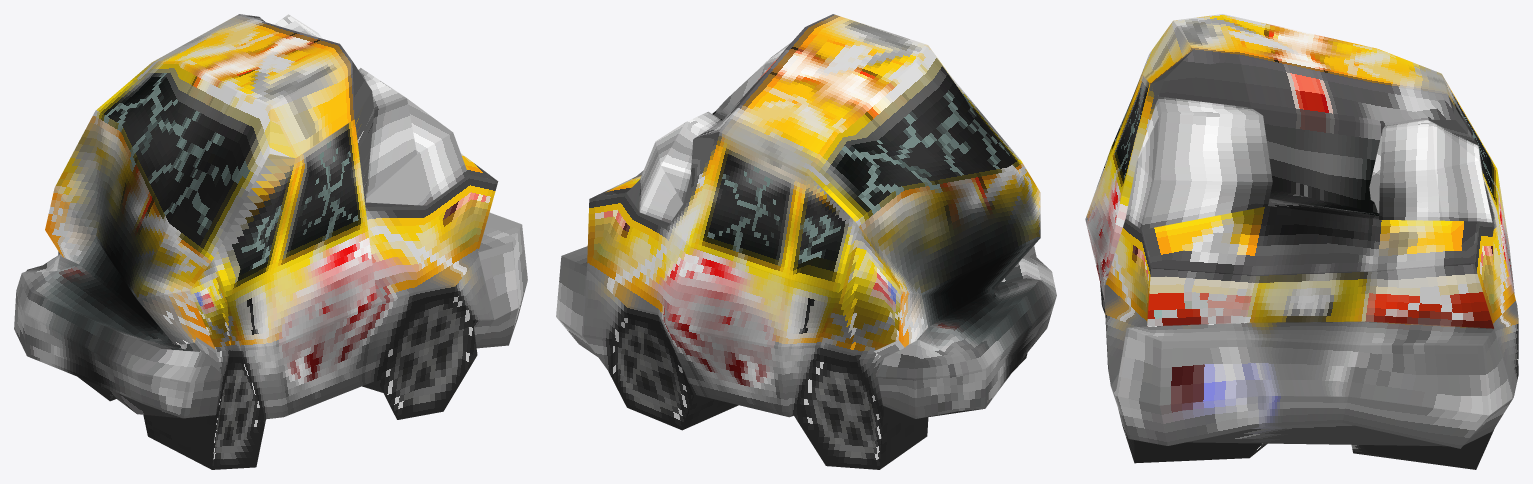
The model's file is car_scuffed.glb.
3 renders of one model, left to right at view 1: azimuth 30°, elevation 25°; view 2: azimuth 150°, elevation 25°; view 3: azimuth 270°, elevation 25°, orthographic. The views are drawn at different scales.
Parts seen in each view (by area): view 1: Cube; view 2: Cube; view 3: Cube.
Part boxes in pixels (x1,y1,x2,y2): Cube: (14, 14, 527, 469); Cube: (556, 14, 1056, 469); Cube: (1085, 14, 1518, 469).
Size of the model in its own units: 5.01 by 4.26 by 4.25.
Materials: 1 (1 with a texture image).
